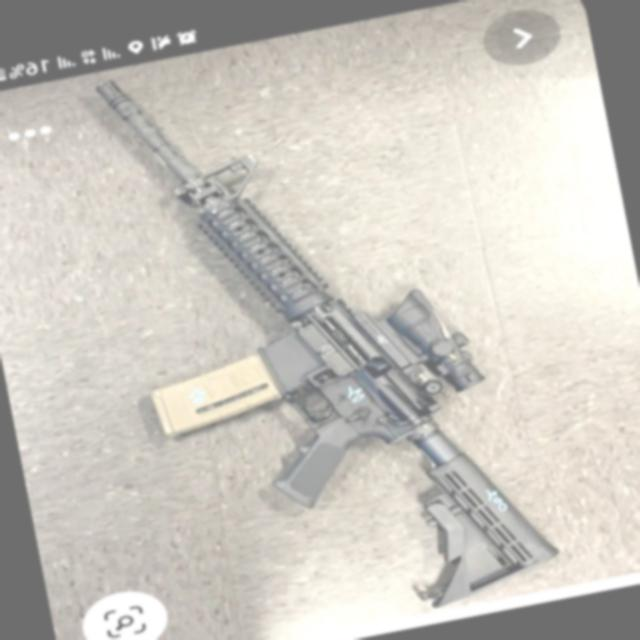m16: (89, 41, 546, 602)
